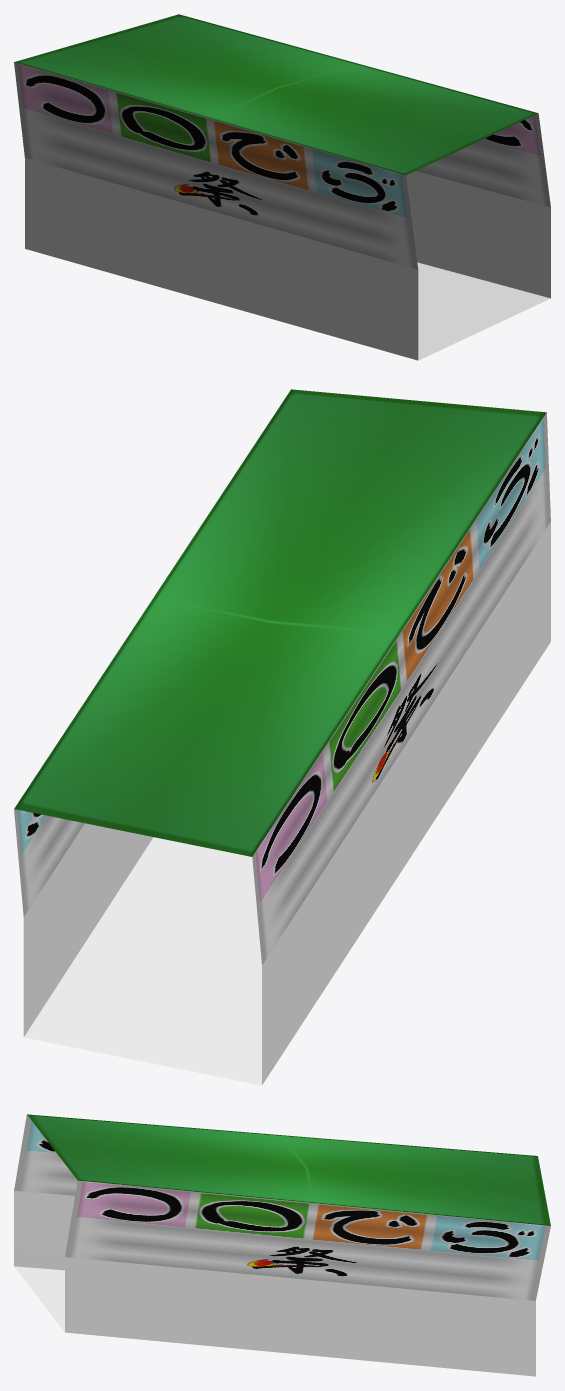
File: CourseWinter_Wall_L_13_20.fbx
3 renders of one model, top to bottom at view 1: azimuth 30°, elevation 25°; view 2: azimuth 150°, elevation 25°; view 3: azimuth 270°, elevation 25°, orthographic. The views are drawn at different scales.
Visible parts, largest first — view 1: polySurface567; view 2: polySurface567; view 3: polySurface567.
Boxes of the visible parts, <box> form: polySurface567: <box>14,14,550,360</box>; polySurface567: <box>14,389,550,1085</box>; polySurface567: <box>14,1114,550,1376</box>.
Size of the model in its own units: 2.9 by 2.99 by 6.44.
1 material, 1 textured.
